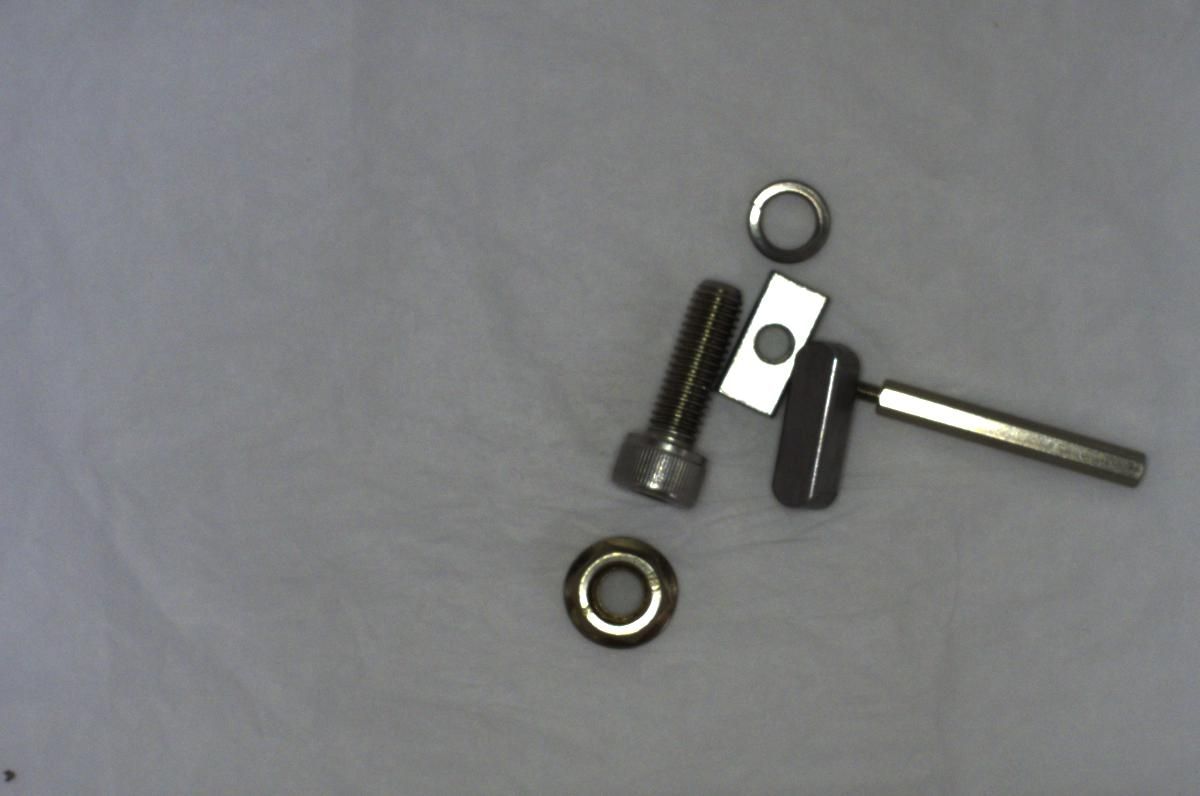Flange nut: (562, 526, 687, 646)
Hexagon screw: (606, 274, 741, 513)
Hexagonal steel column: (855, 364, 1152, 490)
Keybar: (773, 333, 858, 513)
Rectangular nut: (714, 273, 829, 423)
Spring washer: (744, 173, 832, 267)
